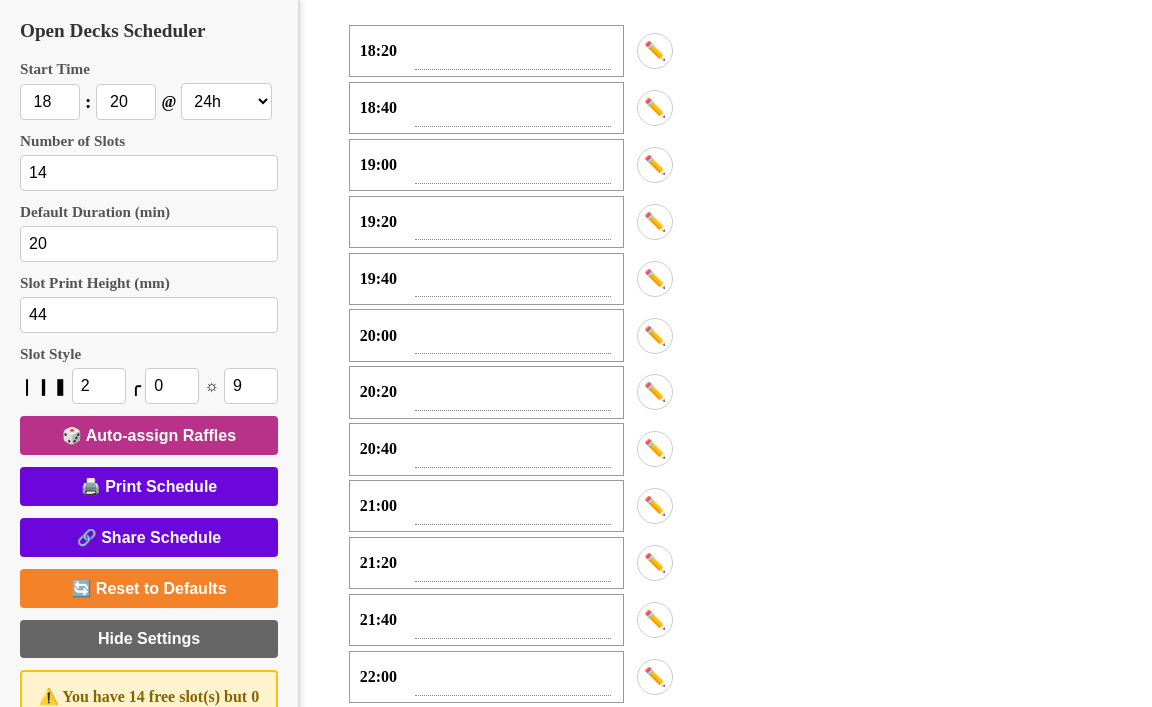
Test: App Component › should show sidebar when settings button is clicked
Click the button "Hide Settings": {"x": 149, "y": 639} [20, 620, 278, 658]
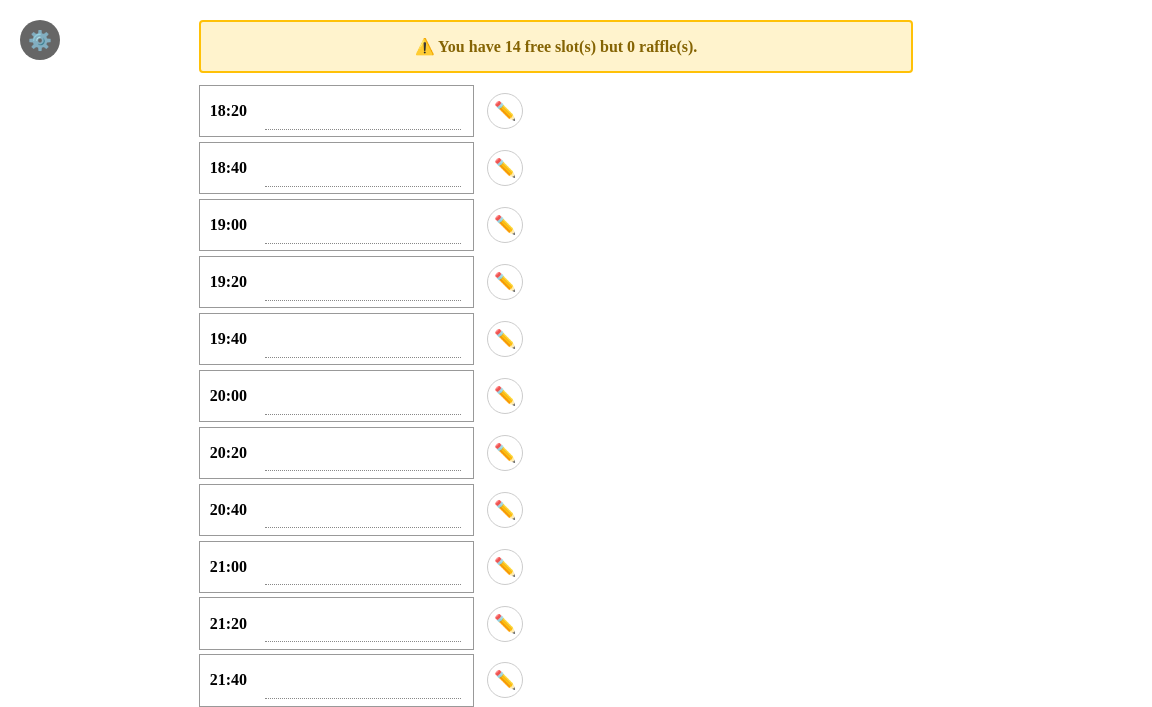
Click the button named "Show settings": {"x": 40, "y": 40} [20, 20, 60, 60]
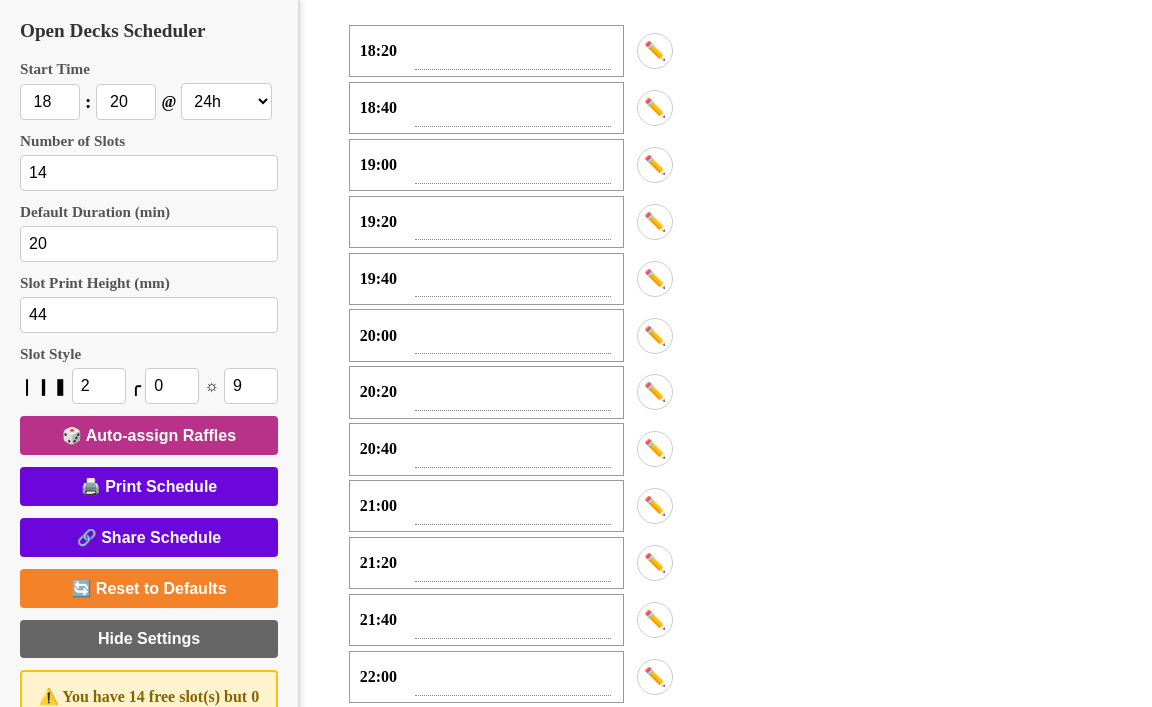
expect the heading "Open Decks Scheduler" is shown: met, box [20, 20, 206, 41]
